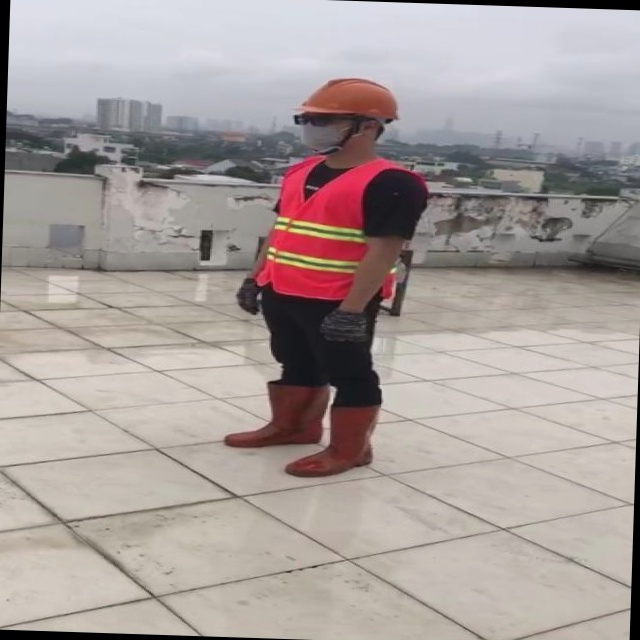boots: (240, 400, 350, 481), (314, 382, 420, 453)
gloves: (272, 309, 323, 341), (380, 281, 408, 315)
helmet: (240, 76, 350, 117)
vest: (217, 160, 384, 300)
